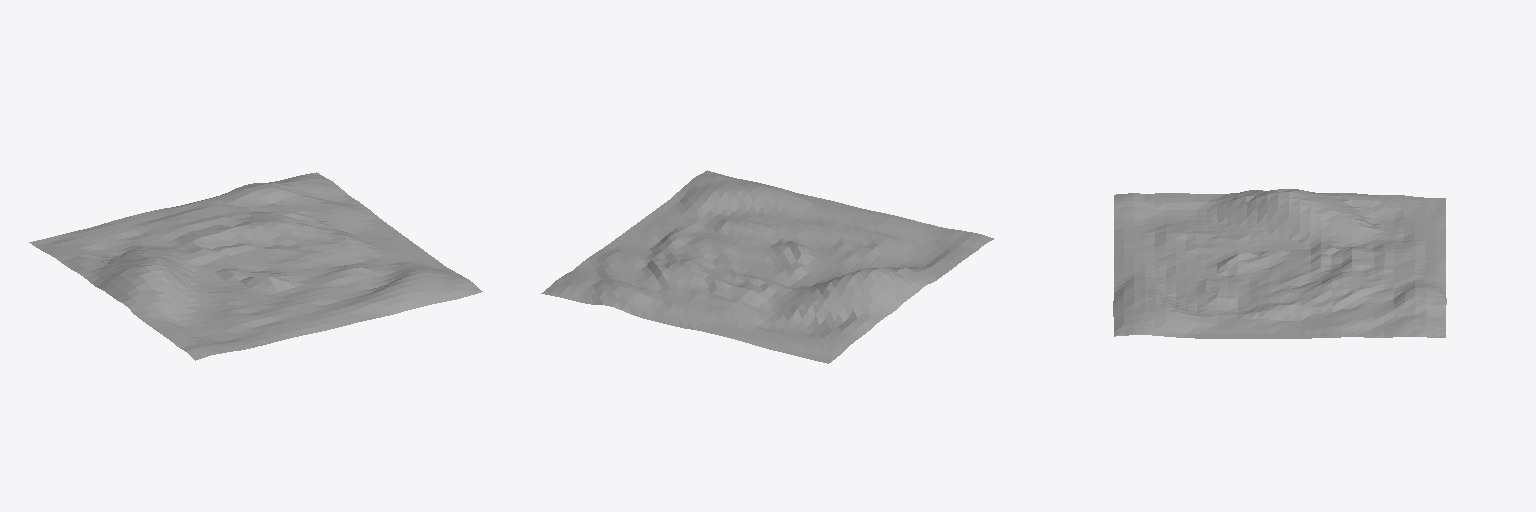
The model's file is map.obj.
3 views of the same model, side by side, from view 1: azimuth 30°, elevation 25°; view 2: azimuth 150°, elevation 25°; view 3: azimuth 270°, elevation 25° (orthographic).
Parts seen in each view (by area): view 1: Plane_Plane.001; view 2: Plane_Plane.001; view 3: Plane_Plane.001.
Part boxes in pixels (x1,y1,x2,y2): Plane_Plane.001: (29, 172, 482, 360); Plane_Plane.001: (541, 170, 993, 363); Plane_Plane.001: (1113, 189, 1446, 338).
Size of the model in its own units: 235 by 19.19 by 235.